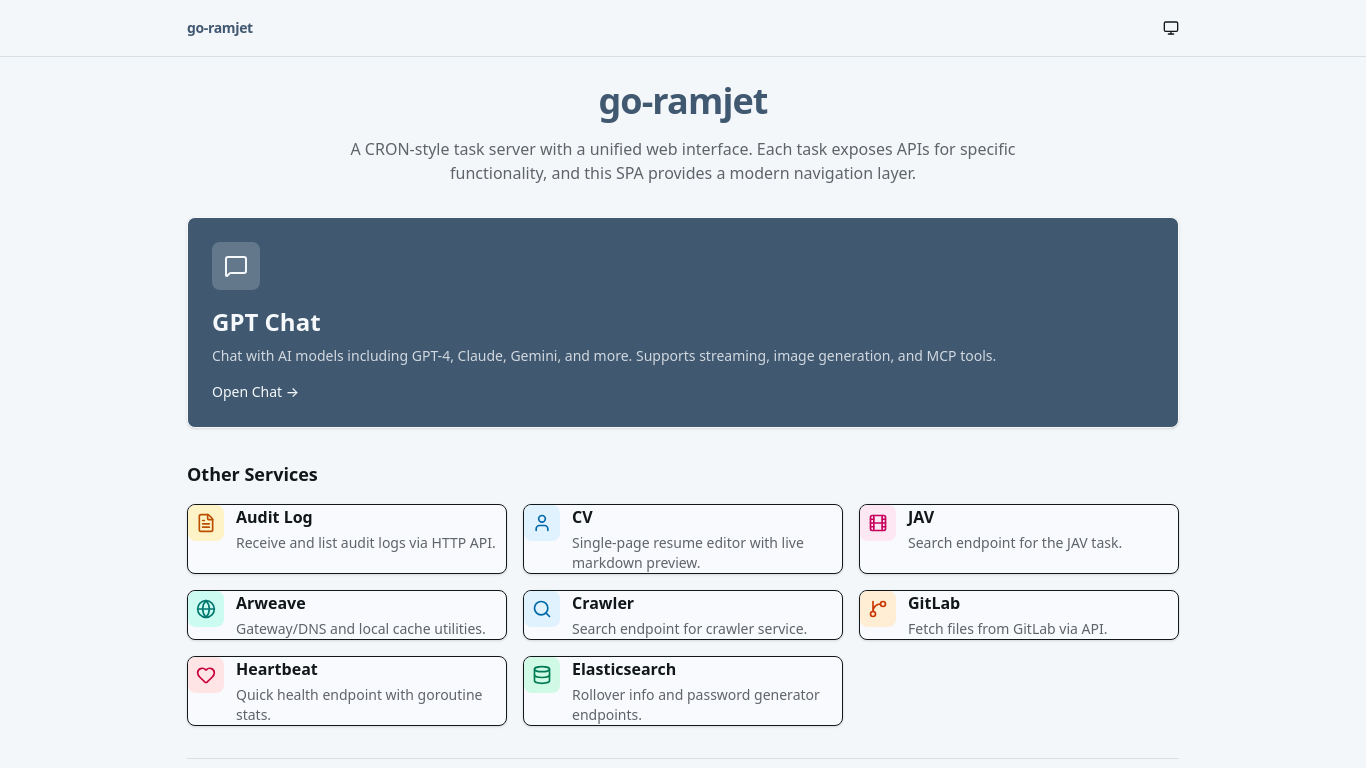
Scenario: routing › navigates to task page
This screenshot has width=1366, height=768.
Step 1. Click the heading "Heartbeat" → (277, 669), box [236, 658, 318, 680]
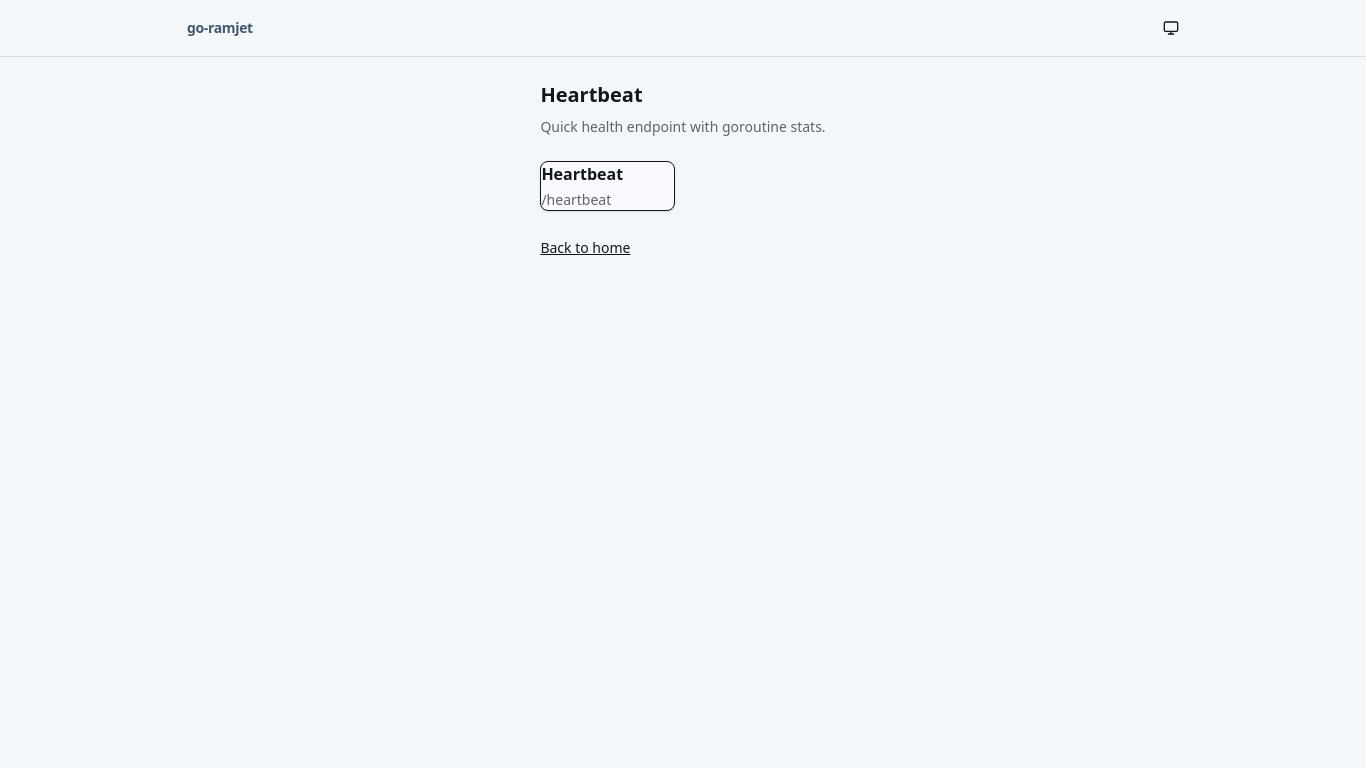
Expected: the 1st heading "Heartbeat" is shown, [540, 81, 643, 108]
Expected: the text "/heartbeat" is shown, [541, 190, 611, 209]
